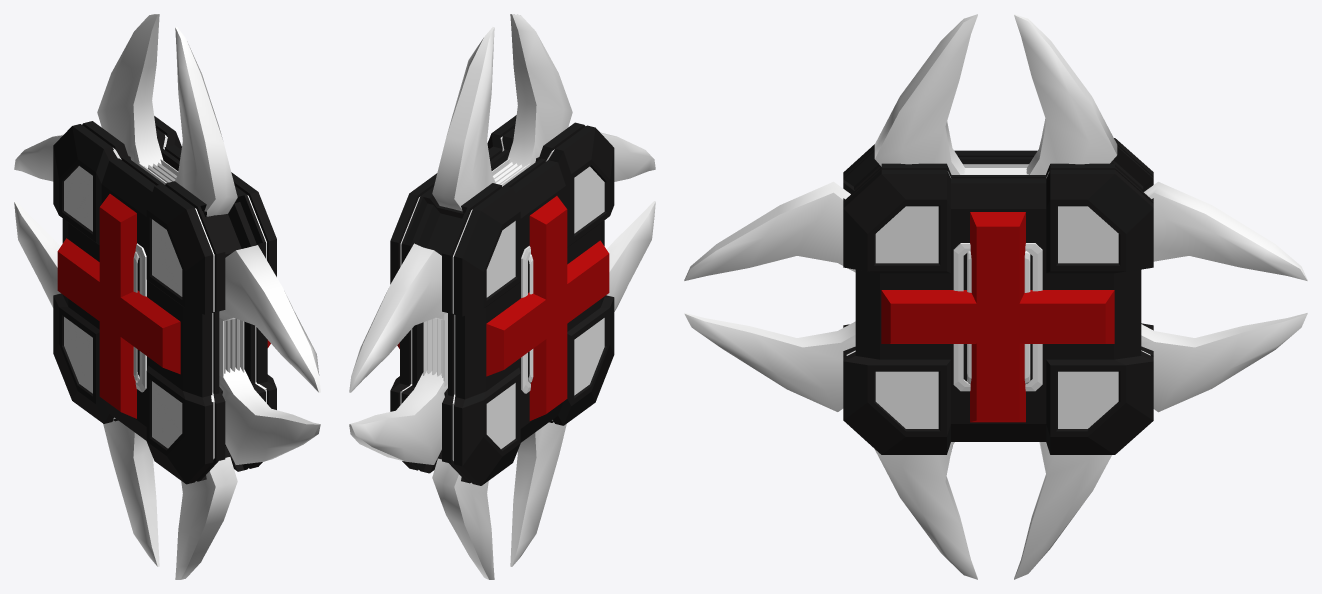
Rendered from Health_Pickup2.fbx.
3 views of the same model, side by side, from view 1: azimuth 30°, elevation 25°; view 2: azimuth 150°, elevation 25°; view 3: azimuth 270°, elevation 25° (orthographic). The views are drawn at different scales.
Visible parts, largest first — view 1: mergedBlocks; view 2: mergedBlocks; view 3: mergedBlocks.
Boxes of the visible parts, left/top/right/bottom form: mergedBlocks: left=14, top=14, right=320, bottom=579; mergedBlocks: left=349, top=14, right=655, bottom=579; mergedBlocks: left=684, top=14, right=1307, bottom=579.
Size of the model in its own units: 4.97 by 24.03 by 24.03.
